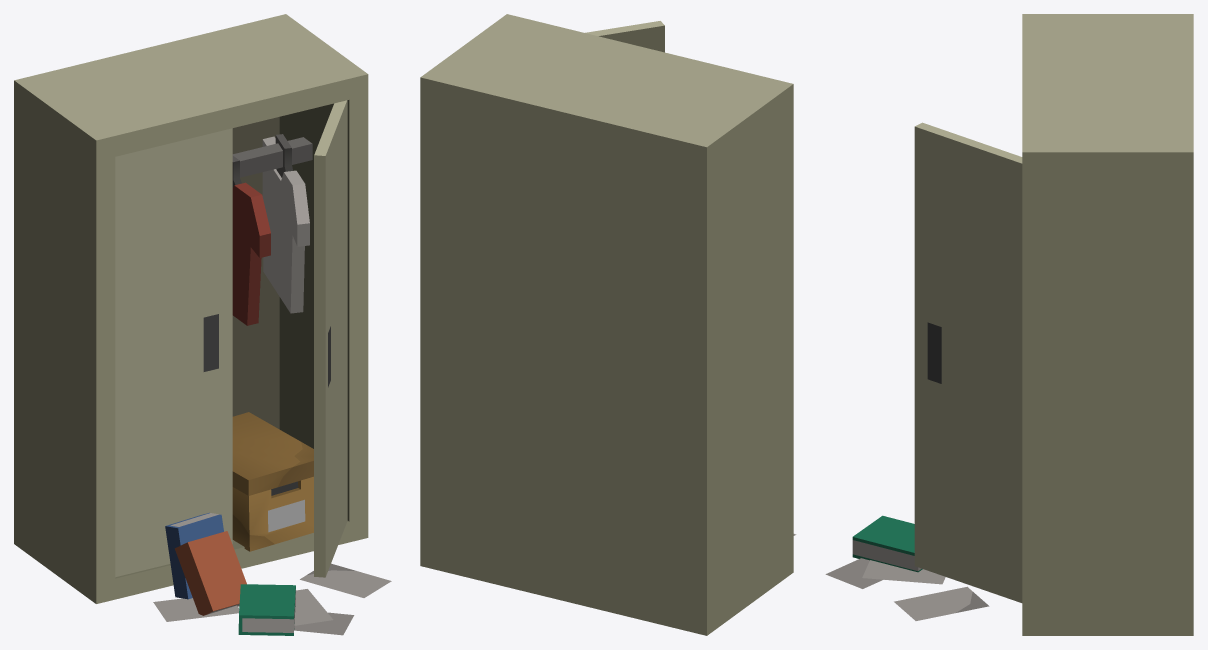
Rendered from AI_Prop_Cupboard_01.fbx.
3 views of the same model, side by side, from view 1: azimuth 30°, elevation 25°; view 2: azimuth 150°, elevation 25°; view 3: azimuth 270°, elevation 25° (orthographic). The views are drawn at different scales.
Parts seen in each view (by area): view 1: AI_Prop_Cupboard_01; view 2: AI_Prop_Cupboard_01; view 3: AI_Prop_Cupboard_01.
Boxes of the visible parts, bbox=[...] form: AI_Prop_Cupboard_01: bbox=[14, 14, 391, 635]; AI_Prop_Cupboard_01: bbox=[420, 14, 796, 635]; AI_Prop_Cupboard_01: bbox=[825, 14, 1193, 635].
Size of the model in its own units: 2.17 by 3.59 by 2.44.
